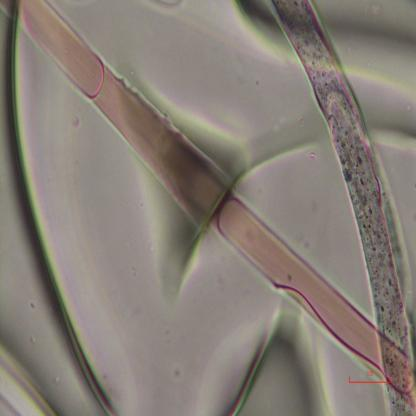Background material: (0, 133, 120, 414), (347, 5, 416, 153), (213, 104, 328, 191), (232, 328, 324, 414), (158, 204, 209, 328), (234, 1, 287, 60)
Microfibre: (16, 0, 416, 399), (273, 1, 416, 415)
